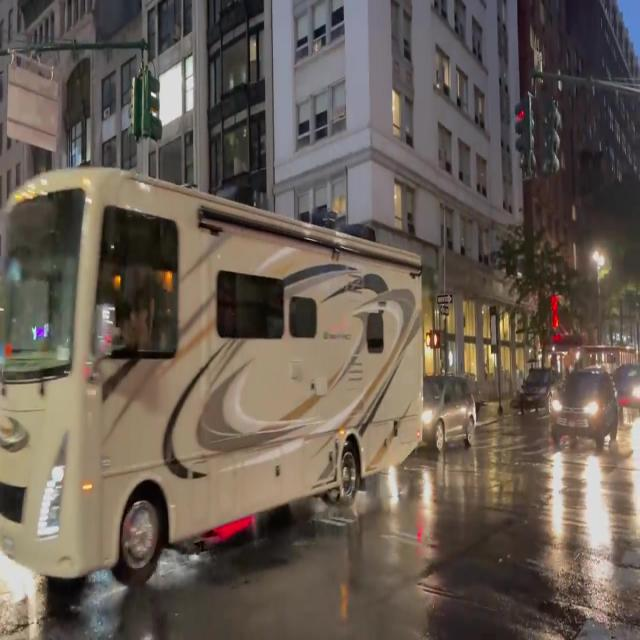Car: (550, 364, 617, 446), (425, 367, 474, 457)
